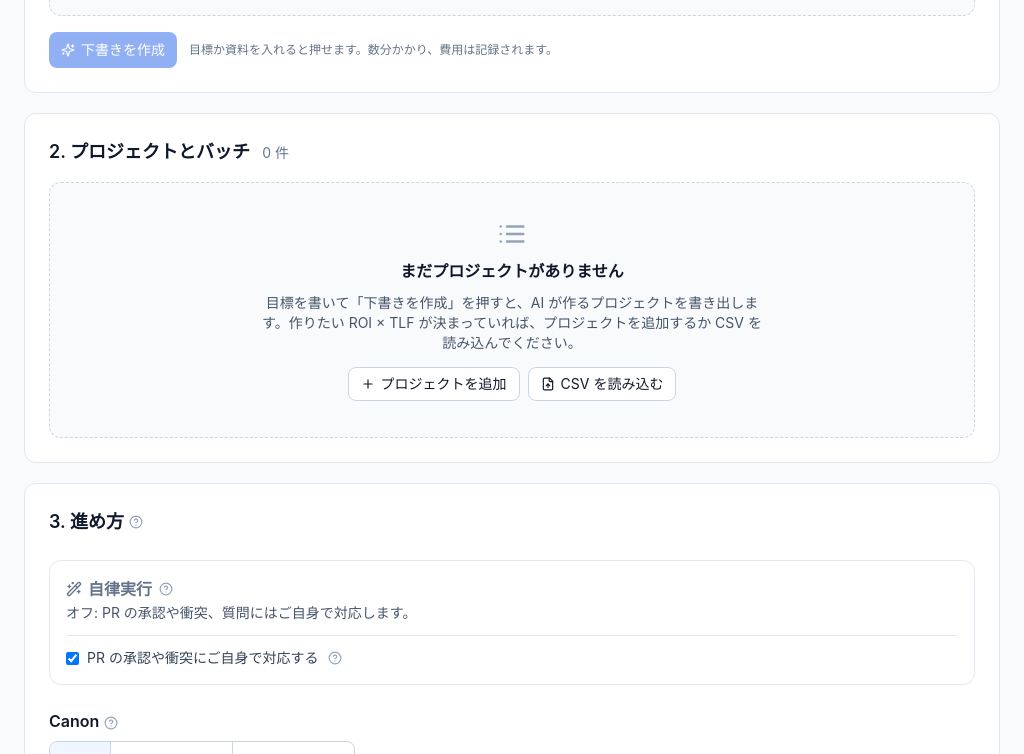
the draft page › shows an empty draft in four steps, with what to do first and why it cannot be confirmed yet
(page scrolled)
Expected: the button "下書きを作成" is disabled, [49,32,177,68]
Expected: the element with test id "plan-what" shows "目標か資料を入れると押せます。数分かかり、費用は記録されます。", [189,42,558,57]
Click the button "プロジェクトを追加". click: (434, 384)
box: [348,367,520,401]
(page scrolled)
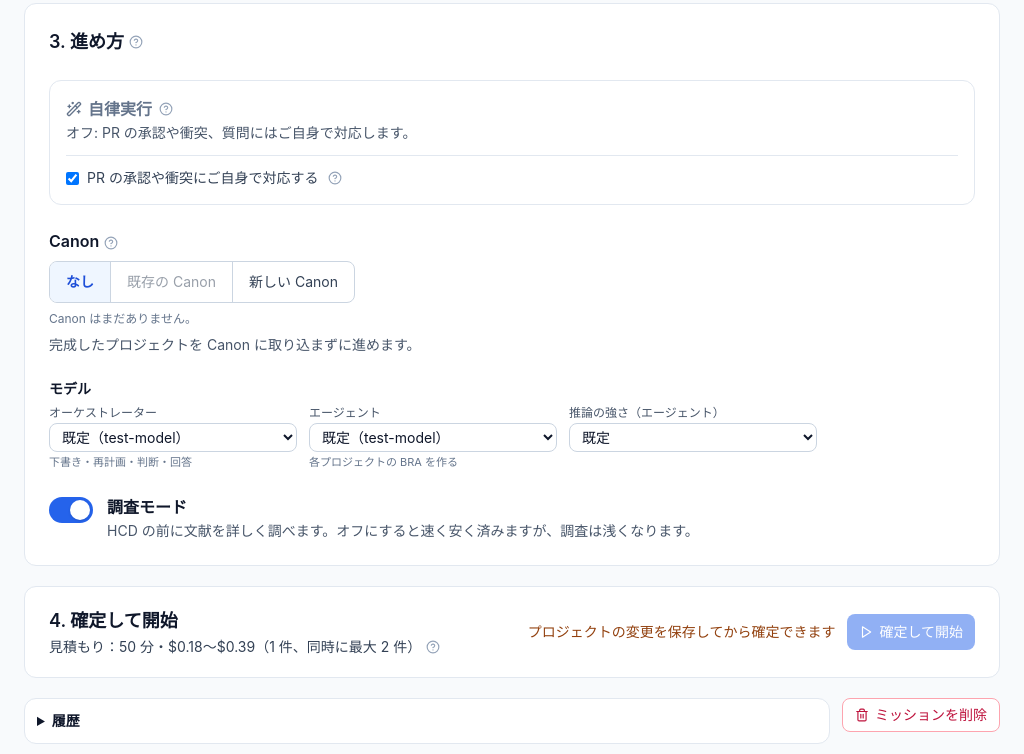
Expected: the element with test id "plan-rows-empty" is gone
Expected: the text with test id "plan-confirm-blocked" reads "プロジェクトの変更を保存してから確定できます", [528,622,835,640]
